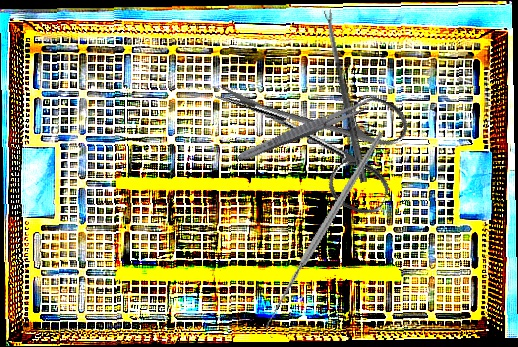Dressing Forceps: (235, 95, 375, 165)
Hook Surgical: (209, 131, 443, 339)
Iris Scissors: (194, 41, 420, 220)
Surgical Spoon: (323, 9, 369, 183)
